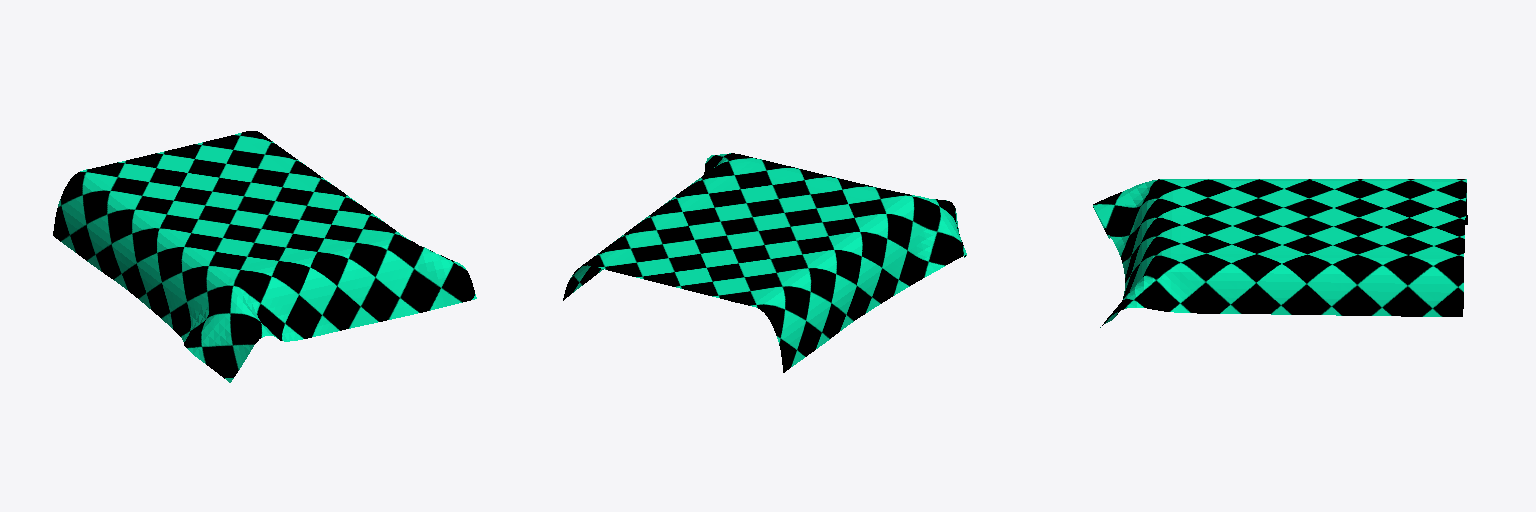
The picture shows the model from 3 angles: view 1: azimuth 30°, elevation 25°; view 2: azimuth 150°, elevation 25°; view 3: azimuth 270°, elevation 25°; orthographic projection.
Size of the model in its own units: 115 by 31.2 by 141.
Materials: 1 (1 with a texture image).